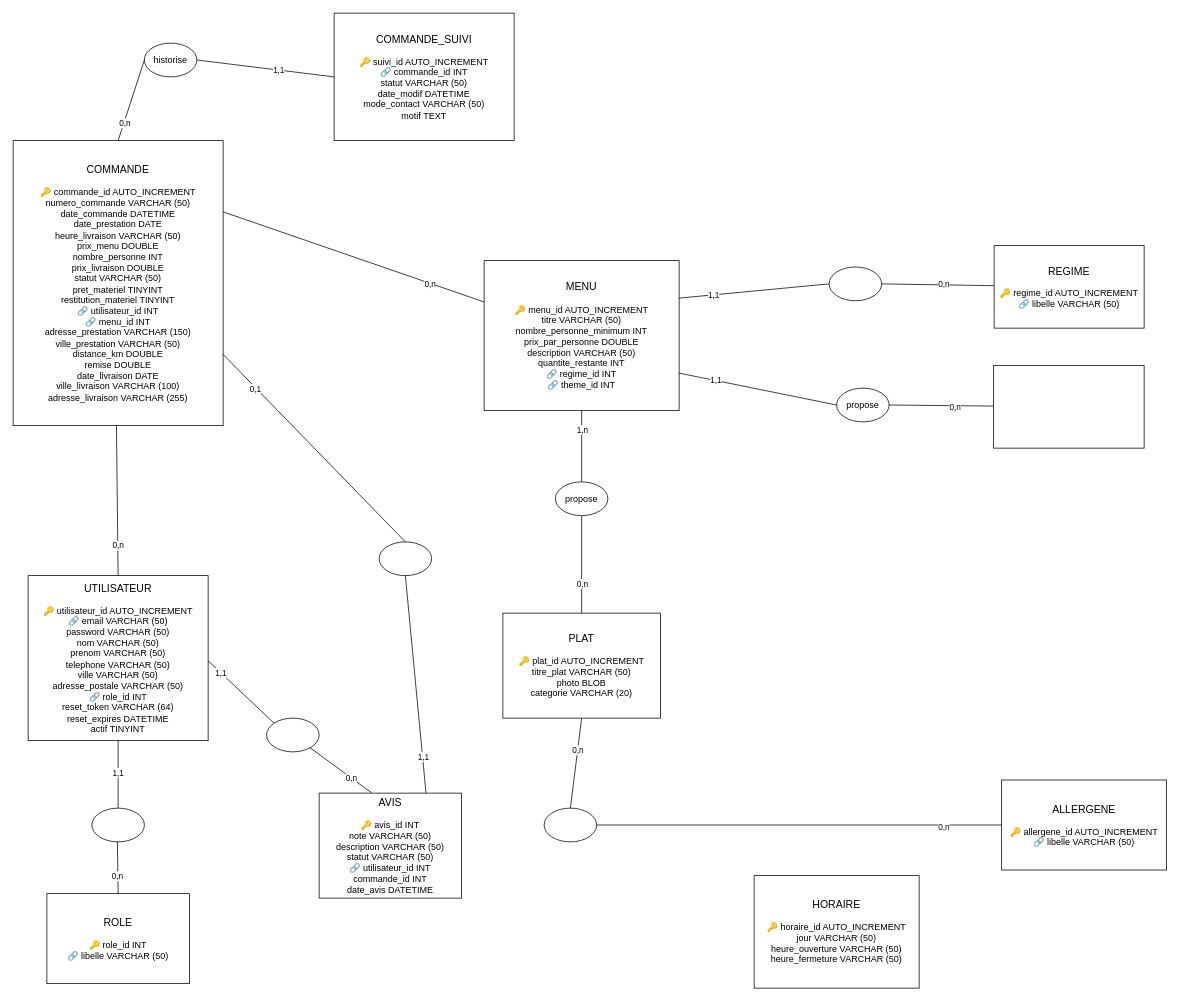
Image size: 1180x1001. Some labels were removed from this diagram. Here are the shapes that lost their labels. From the top down, the box of each, then its label:
(828, 266, 882, 301): adapte
(993, 365, 1144, 448): THEME 🔑 theme_id AUTO_INCREMENT 🔗 libelle VARCHAR (50)
(378, 541, 432, 576): reçoit
(266, 717, 319, 752): publie
(91, 807, 144, 842): possède
(543, 807, 597, 842): contient
